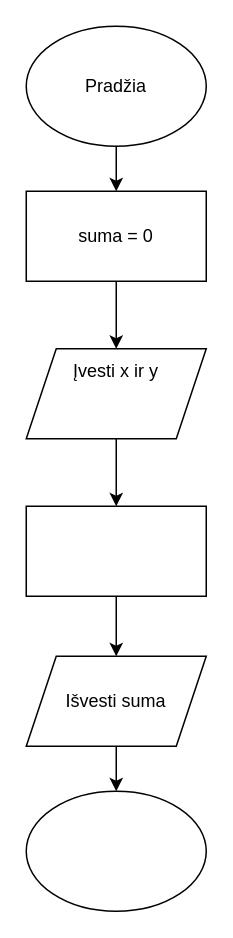
Image size: 233x938. Some labels were removed from this diagram. The shapes that lost their labels are listed below. From the top down, each one's box as (x1, y1, x2, y2) in pixels, then its label:
(25, 505, 206, 596): suma = x + y
(25, 790, 206, 911): Pabaiga
